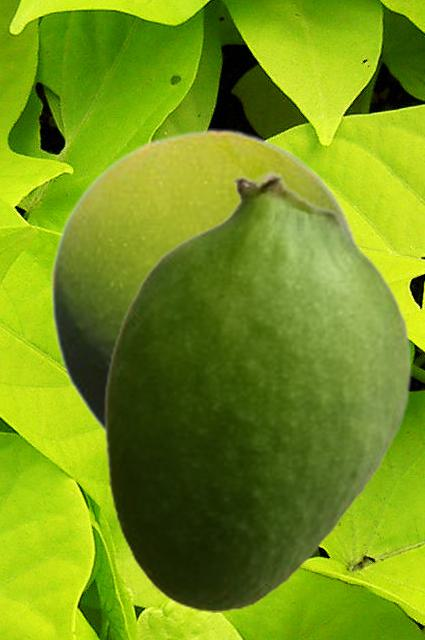green_mango: (103, 170, 411, 611), (49, 128, 360, 436)
